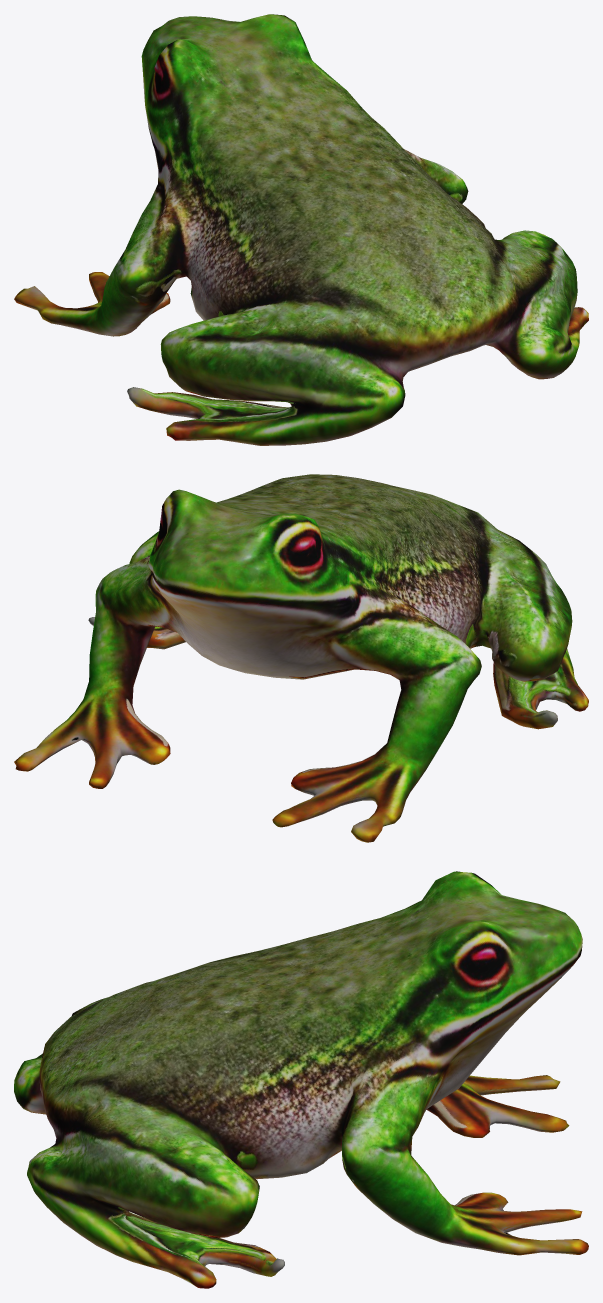
Rendered from rana.obj.
3 renders of one model, top to bottom at view 1: azimuth 30°, elevation 25°; view 2: azimuth 150°, elevation 25°; view 3: azimuth 270°, elevation 25°, orthographic. The views are drawn at different scales.
Parts seen in each view (by area): view 1: RANA; view 2: RANA; view 3: RANA.
Part boxes in pixels (box(x1,y1,x2,y2)): RANA: box(14, 14, 588, 445); RANA: box(14, 474, 588, 842); RANA: box(14, 871, 588, 1288).
Bounding box in the file's own units: 0.3011 × 0.1715 × 0.3218.
1 material, 1 textured.
